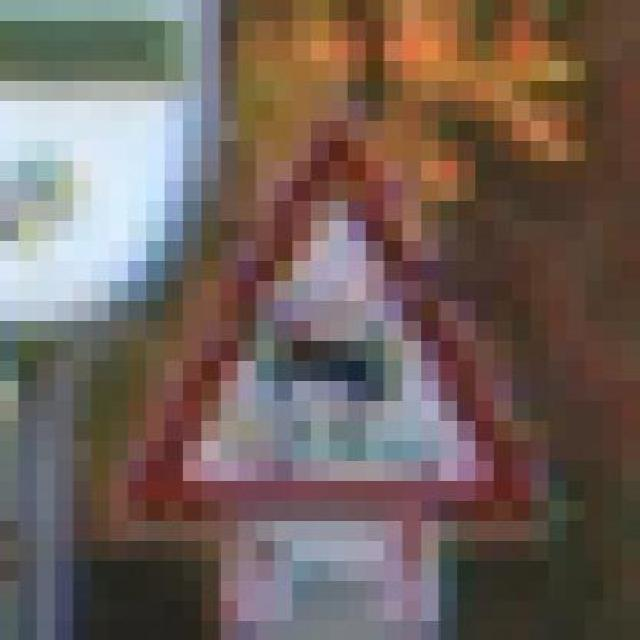Slippery Road Ahead: (91, 80, 567, 540)
